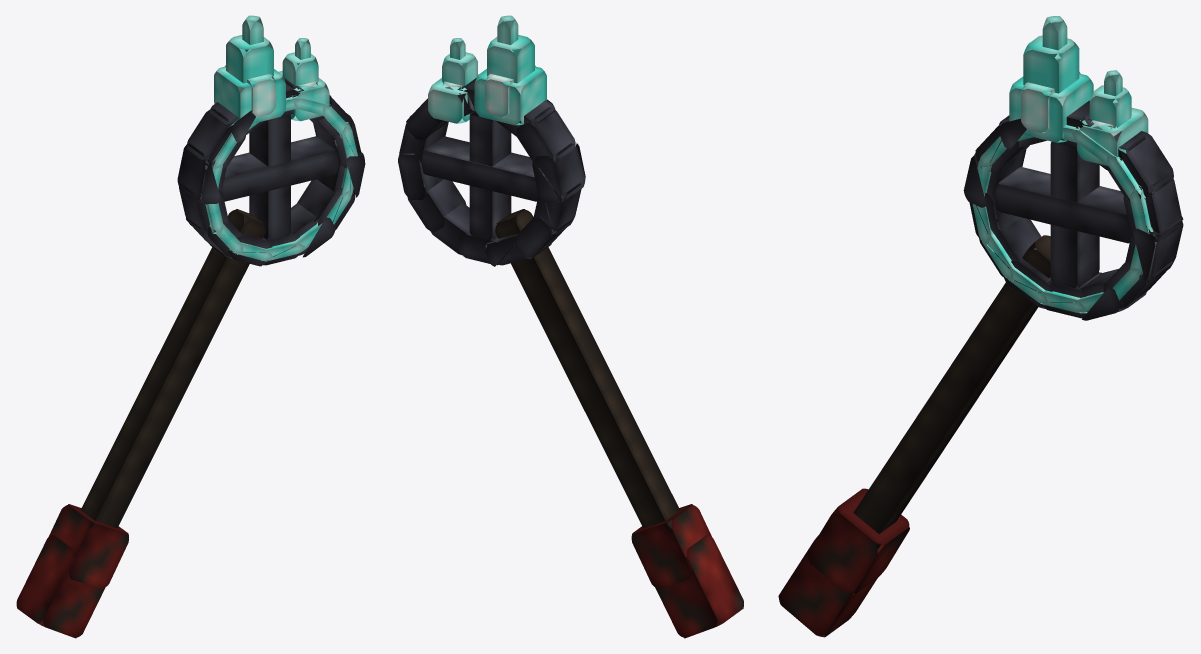
File: legions_brand.obj
The picture shows the model from 3 angles, left to right: view 1: azimuth 30°, elevation 25°; view 2: azimuth 150°, elevation 25°; view 3: azimuth 330°, elevation 25°; orthographic projection. The views are drawn at different scales.
Visible parts, largest first — view 1: lit, fire; view 2: lit, fire; view 3: lit, fire.
Part boxes in pixels (<box>): lit: <box>16,78,365,638</box>; fire: <box>205,15,357,261</box>; lit: <box>398,77,743,638</box>; fire: <box>426,15,562,201</box>; lit: <box>778,100,1183,637</box>; fire: <box>972,16,1154,313</box>.
Size of the model in its own units: 0.8043 by 1.33 by 0.1261.
